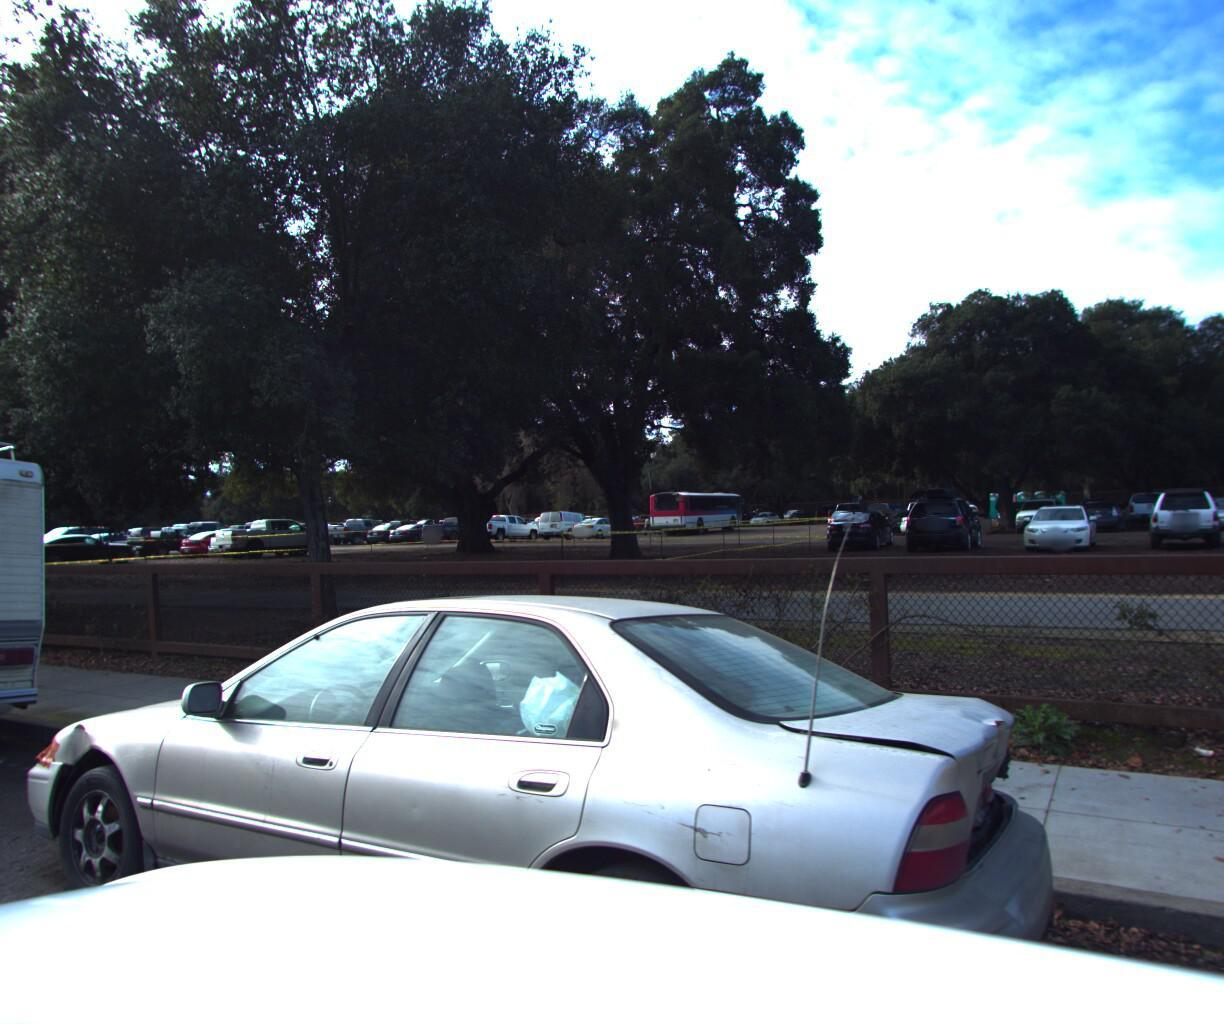car: (0, 575, 1036, 1024)
other_vehicle: (0, 360, 96, 822)
